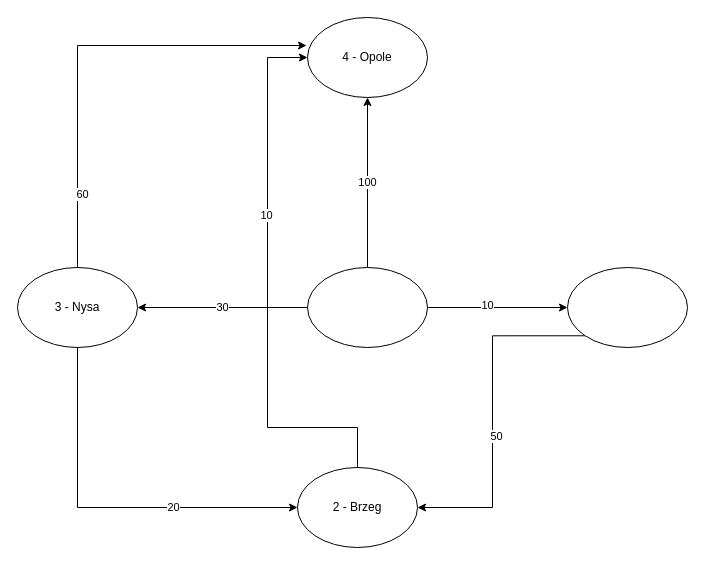
This 705x565 diagram has some shape labels left out. The centre of each missing label's shape, as x and y in pixels:
0 - Wrocław: the point at 367,307
1 - Oława: the point at 627,307
